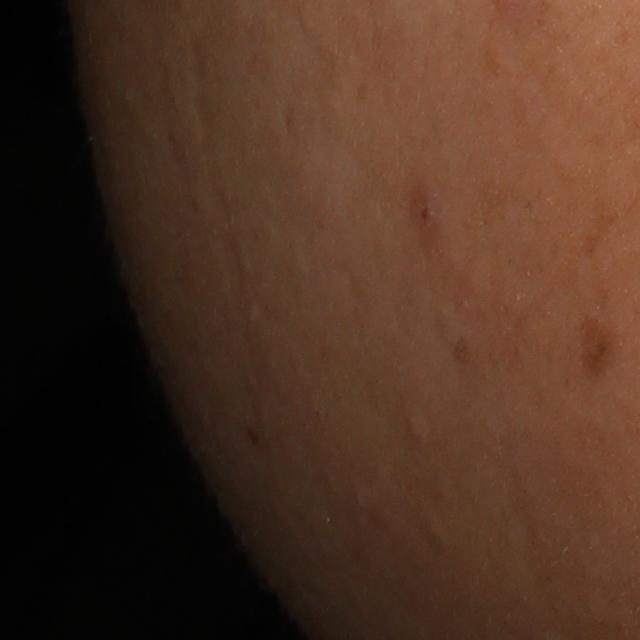atrophic_scar: (205, 185, 260, 330), (282, 5, 340, 81), (186, 45, 224, 155)
papule: (412, 197, 439, 232)
